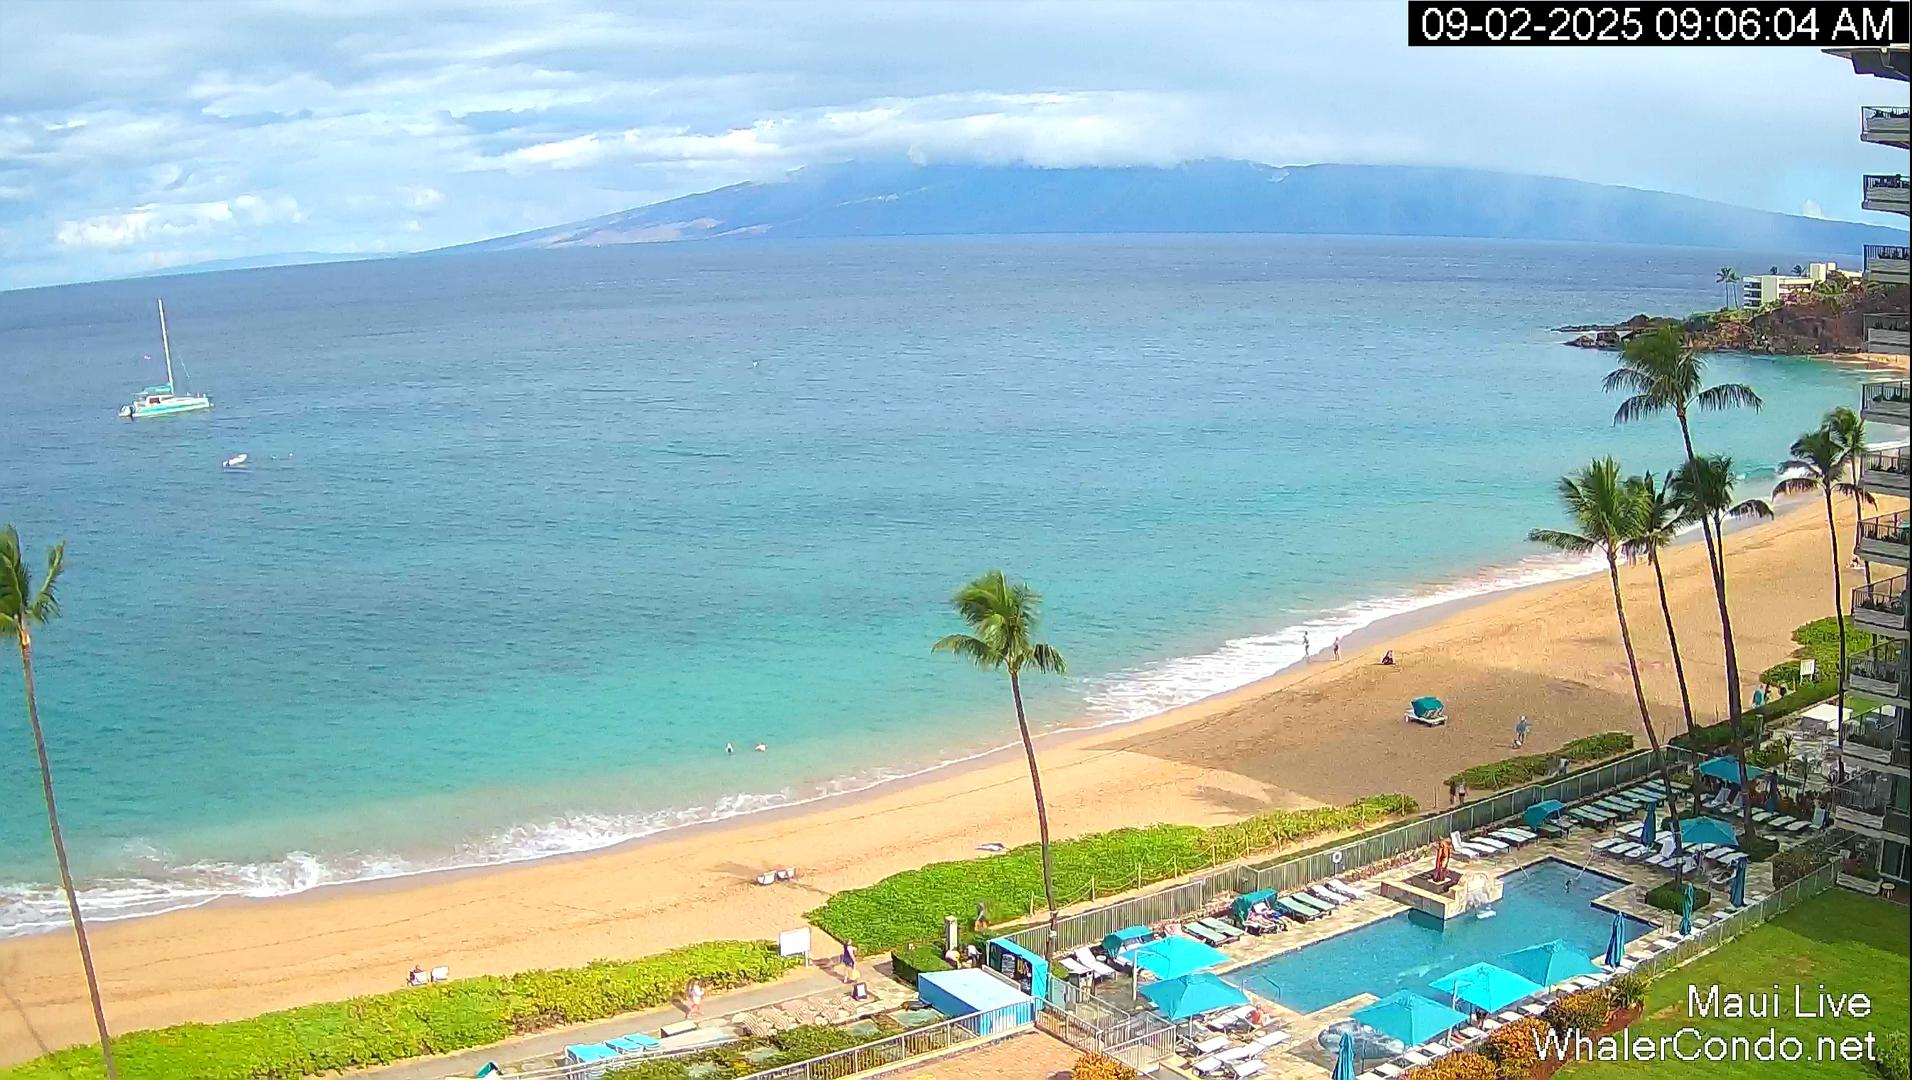boat: (118, 298, 212, 419), (224, 452, 248, 468)
person: (842, 938, 857, 983), (1245, 903, 1269, 928), (1263, 907, 1291, 924), (1246, 1003, 1264, 1027), (976, 900, 988, 933), (692, 982, 704, 1014), (944, 948, 960, 970), (1752, 684, 1765, 708), (1516, 716, 1527, 744), (1380, 648, 1393, 670), (1558, 754, 1570, 777), (409, 963, 424, 981), (1458, 778, 1467, 805), (1778, 676, 1788, 697), (1448, 780, 1456, 806), (1302, 631, 1310, 657), (1332, 637, 1340, 661), (756, 741, 770, 754), (1765, 679, 1772, 703), (1564, 876, 1572, 895), (726, 741, 735, 757)
